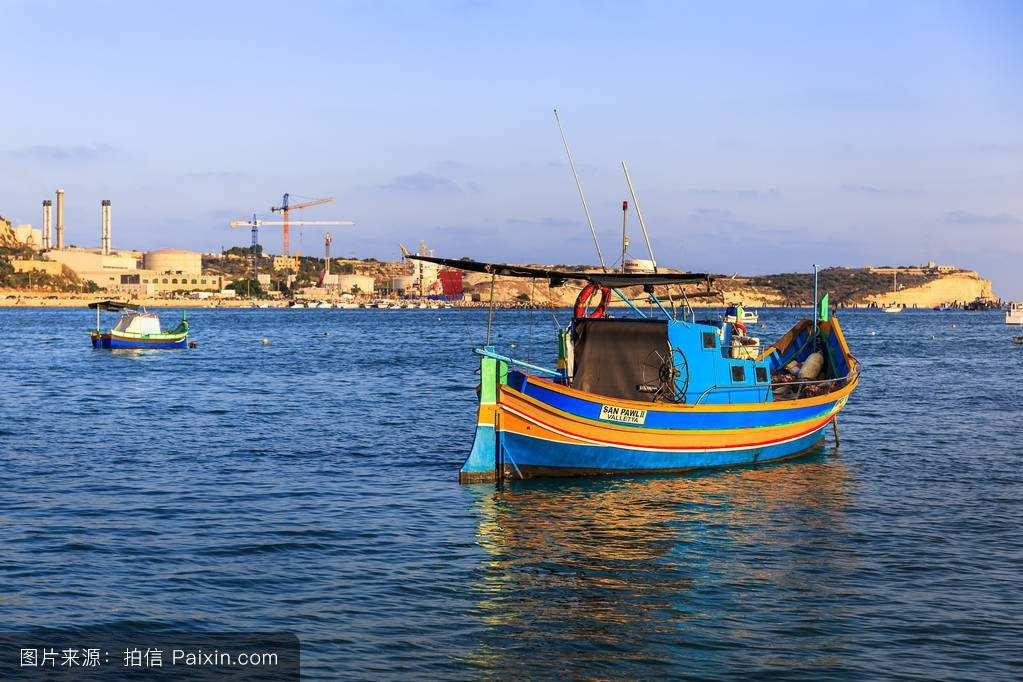otherboat: (460, 267, 863, 493), (87, 297, 201, 363)
